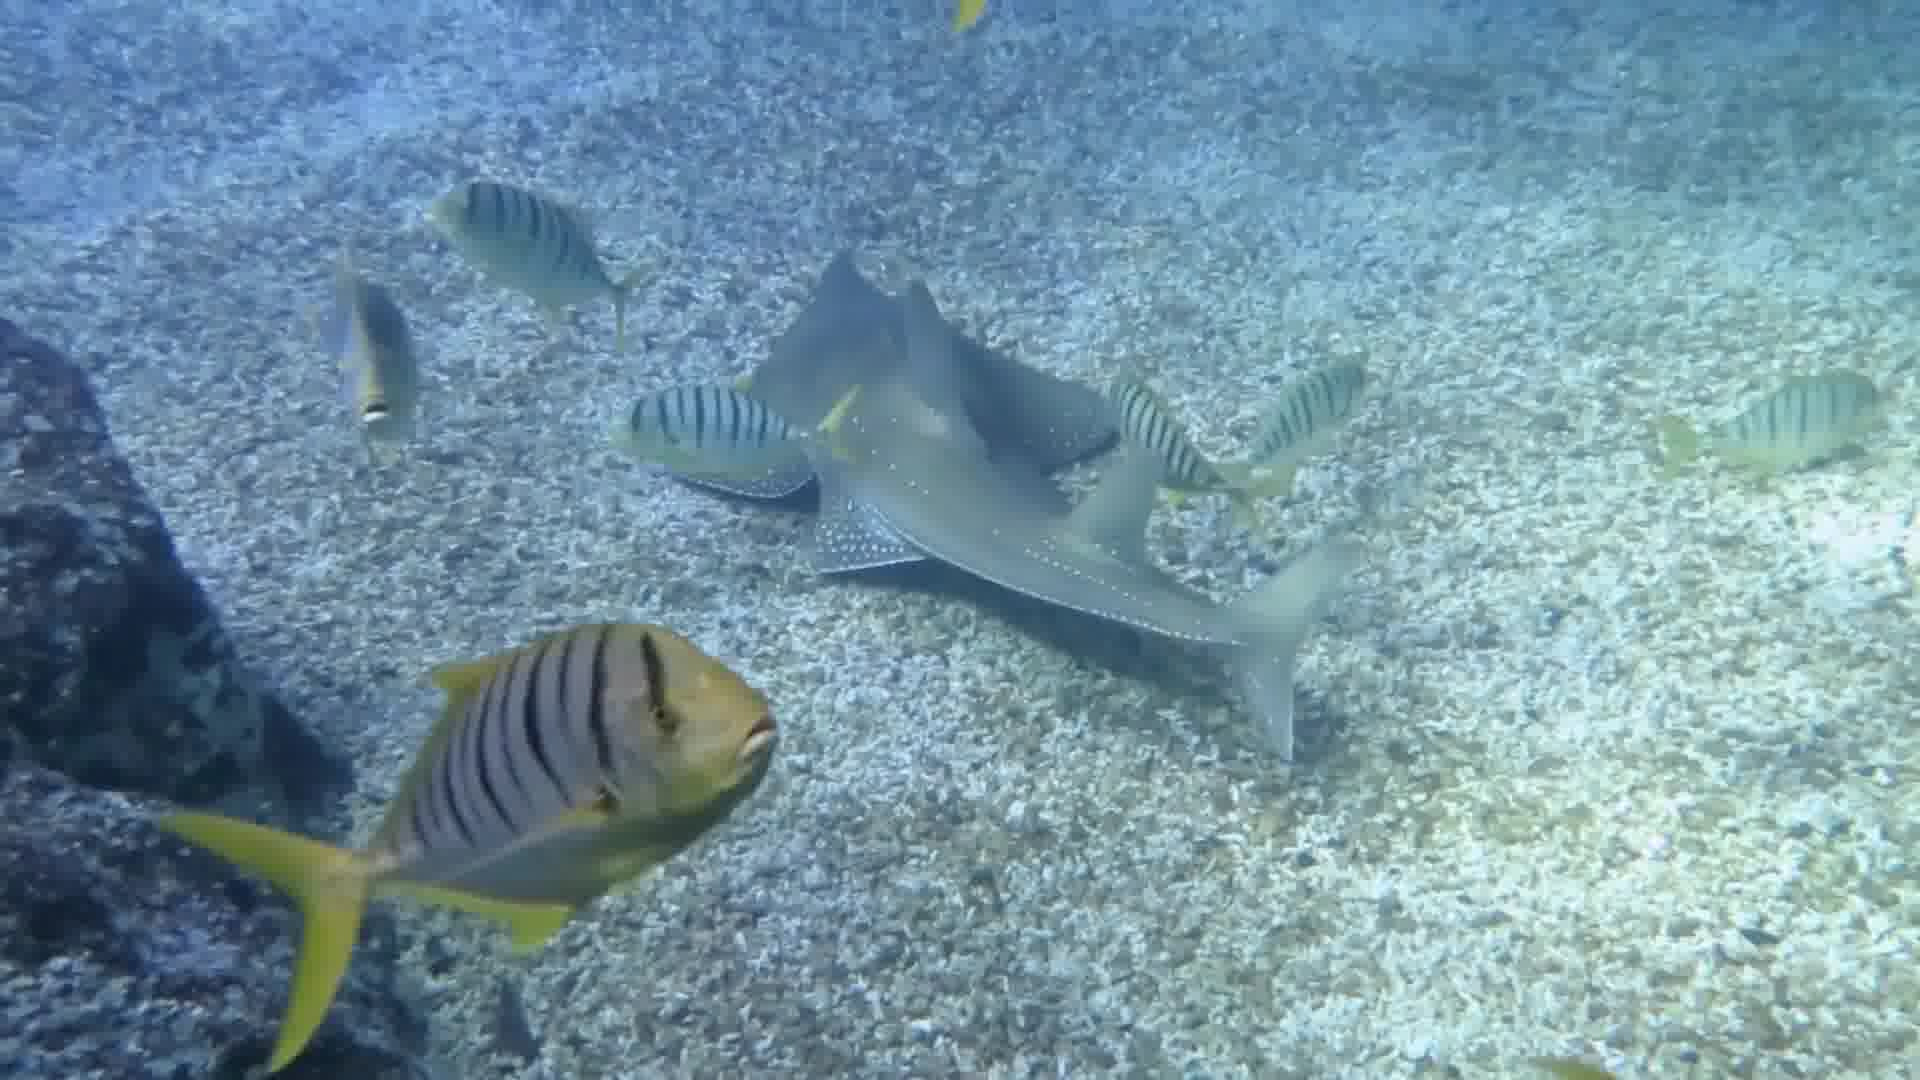Rhychobatus djiddensis: (717, 193, 1373, 782)
